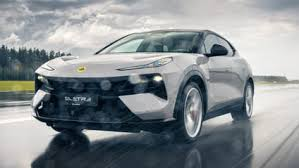car: (29, 29, 256, 142)
